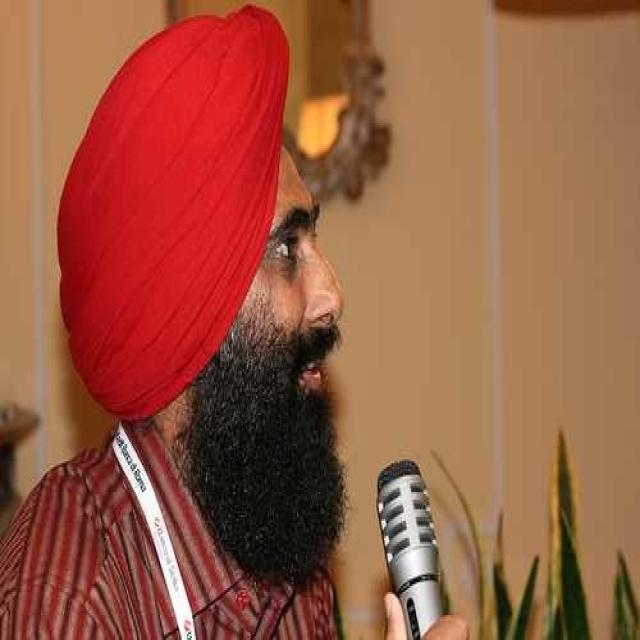microphone: (374, 455, 444, 640)
